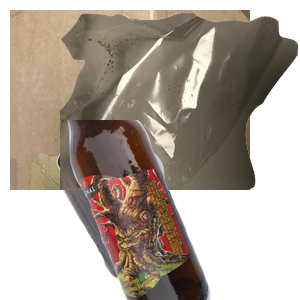cardboard: (10, 10, 250, 190)
glass: (65, 120, 300, 300)
plastic: (54, 136, 209, 300)
trash: (60, 10, 300, 190)
